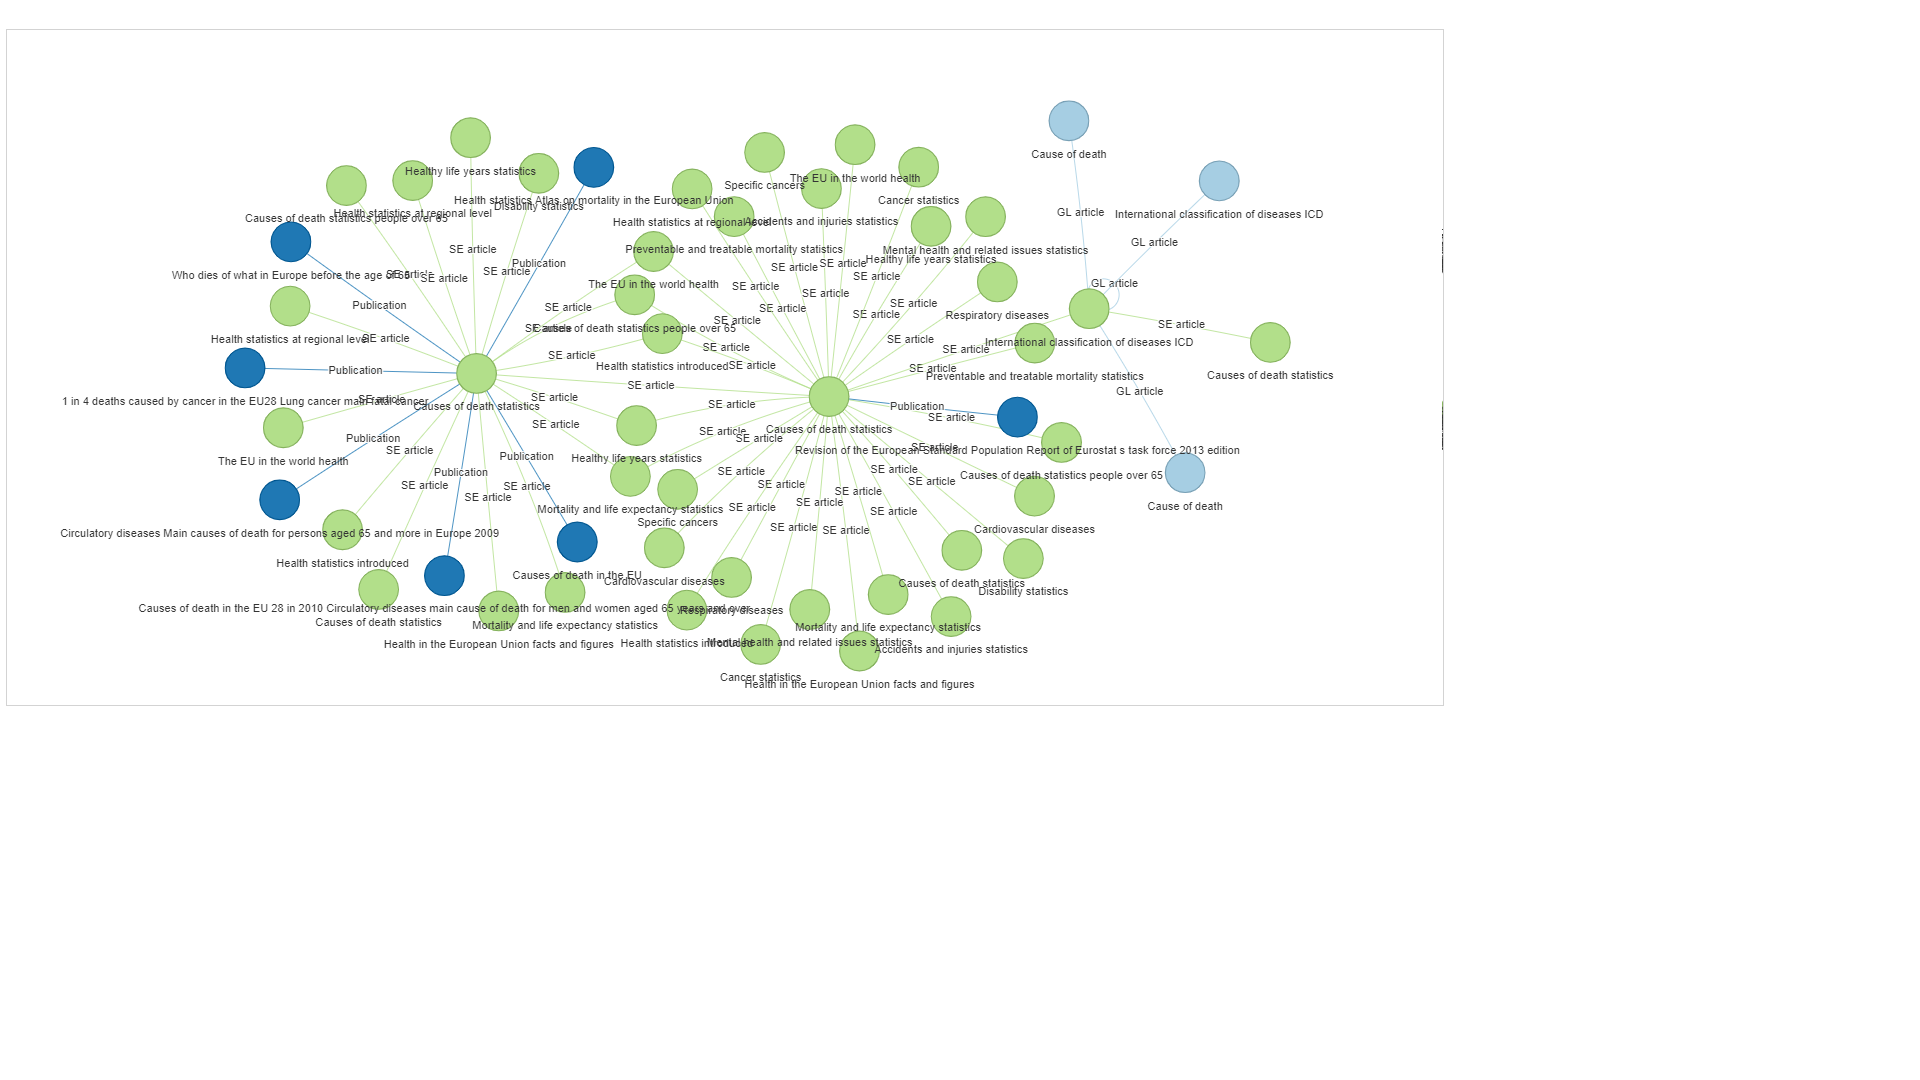

The dashboard page shown, as its layout file describes it:
{"tool":"powerbi","page":{"name":"Themes, sub-themes and categories (2)","canvas":[1601,1000],"ordinal":1},"visuals":[{"type":"NetworkNavigator1550434005853","fields":{"SOURCE_NODE":["Repeated rows.themes"],"TARGET_NODE":["Repeated rows.sub_themes"],"SOURCE_NODE_WEIGHT":["Repeated rows.Num_articles"],"SOURCE_NODE_COLOR":["Official_colors_2.Color"],"TARGET_NODE_COLOR":["Official_colors_2.Color"]},"box":[958.3,20.2,641.7,604.6],"z":0},{"type":"clusteredBarChart","title":"Number of articles by category","fields":{"Category":["Repeated rows.categories"],"Y":["Repeated rows.Num_articles_2"]},"box":[10.1,131.4,658.5,493.5],"z":1000},{"type":"tableEx","fields":{"Values":["Original.title","Repeated rows.Num_articles_2"]},"box":[20.9,624.9,647.6,375.3],"z":2000},{"type":"pieChart","title":"Articles by last update year","fields":{"Category":["Repeated rows.last_update.Variation.Date Hierarchy.Year"],"Y":["Repeated rows.Num_articles_2"]},"box":[958.3,640.6,605.7,347.3],"z":3000},{"type":"multiRowCard","fields":{"Values":["Repeated rows 2.Selected_theme_label_2"]},"box":[-0.4,1.4,762.9,40.4],"z":4000},{"type":"multiRowCard","fields":{"Values":["Repeated rows 2.Selected_sub_theme_label_2"]},"box":[4.7,41.8,757.9,45.5],"z":5000},{"type":"multiRowCard","fields":{"Values":["Repeated rows 2.Num_articles_label_2"]},"box":[4.7,87.3,335.2,45.5],"z":6000},{"type":"slicer","title":"Themes","fields":{"Values":["Repeated rows.themes"]},"box":[668.5,1.7,246.1,324.7],"z":7000},{"type":"slicer","title":"Sub-themes","fields":{"Values":["Repeated rows.sub_themes"]},"box":[668.5,404.9,246.1,595.2],"z":8000}]}

Visuals, with their boxes on the page's 1601x1000 design canvas (x1, y1, x2, y2). These are canvas units, not pixel positions in the 1920x1080 screenshot, which may show the page scaled, cropped or inside an application window:
NetworkNavigator1550434005853 - Repeated rows.themes x Repeated rows.sub_themes: [left=958, top=20, right=1600, bottom=625]
"Number of articles by category" clusteredBarChart: [left=10, top=131, right=669, bottom=625]
tableEx - Original.title x Repeated rows.Num_articles_2: [left=21, top=625, right=668, bottom=1000]
"Articles by last update year" pieChart: [left=958, top=641, right=1564, bottom=988]
multiRowCard - Repeated rows 2.Selected_theme_label_2: [left=0, top=1, right=762, bottom=42]
multiRowCard - Repeated rows 2.Selected_sub_theme_label_2: [left=5, top=42, right=763, bottom=87]
multiRowCard - Repeated rows 2.Num_articles_label_2: [left=5, top=87, right=340, bottom=133]
"Themes" slicer: [left=668, top=2, right=915, bottom=326]
"Sub-themes" slicer: [left=668, top=405, right=915, bottom=1000]
